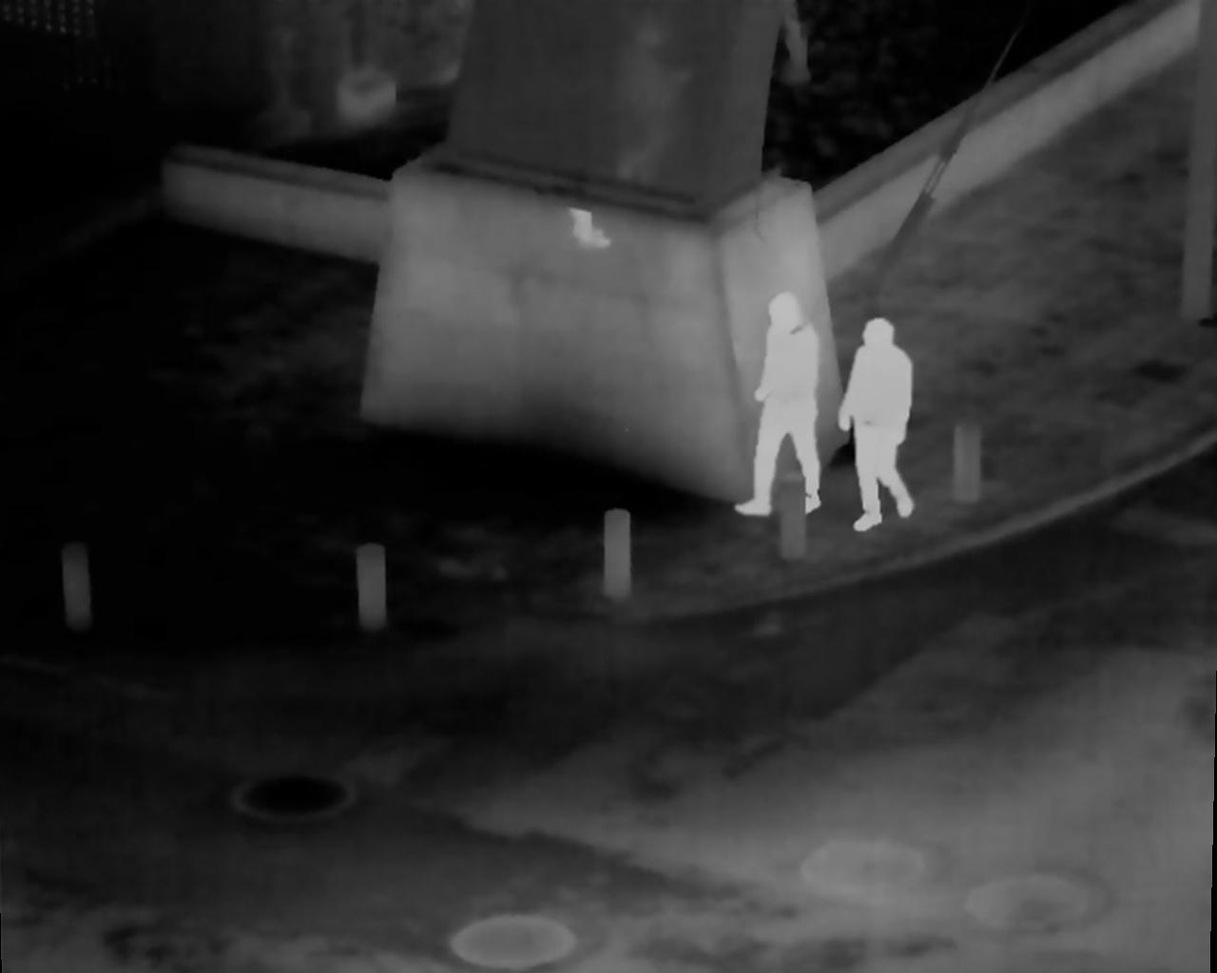person: (737, 293, 830, 527), (840, 318, 911, 536)
